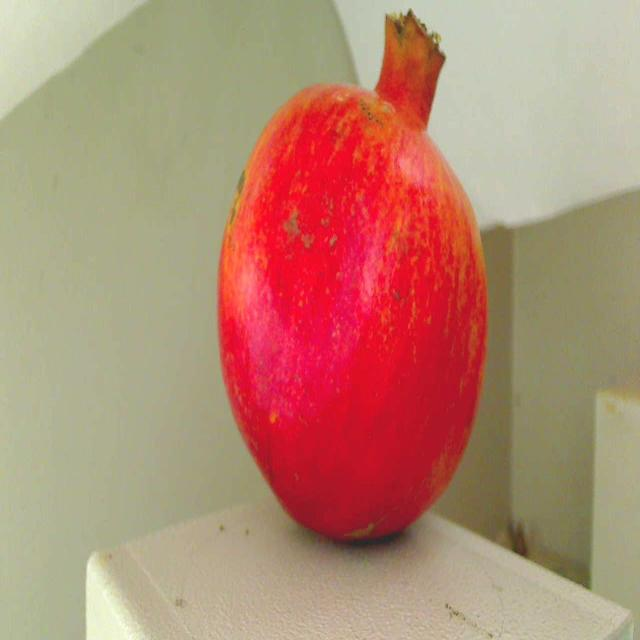pomegranate: (210, 0, 503, 581)
